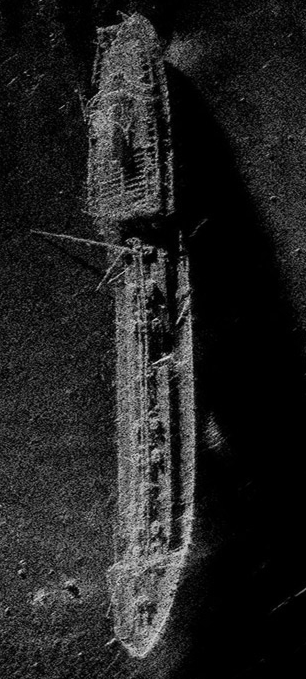ship: (76, 11, 200, 662)
